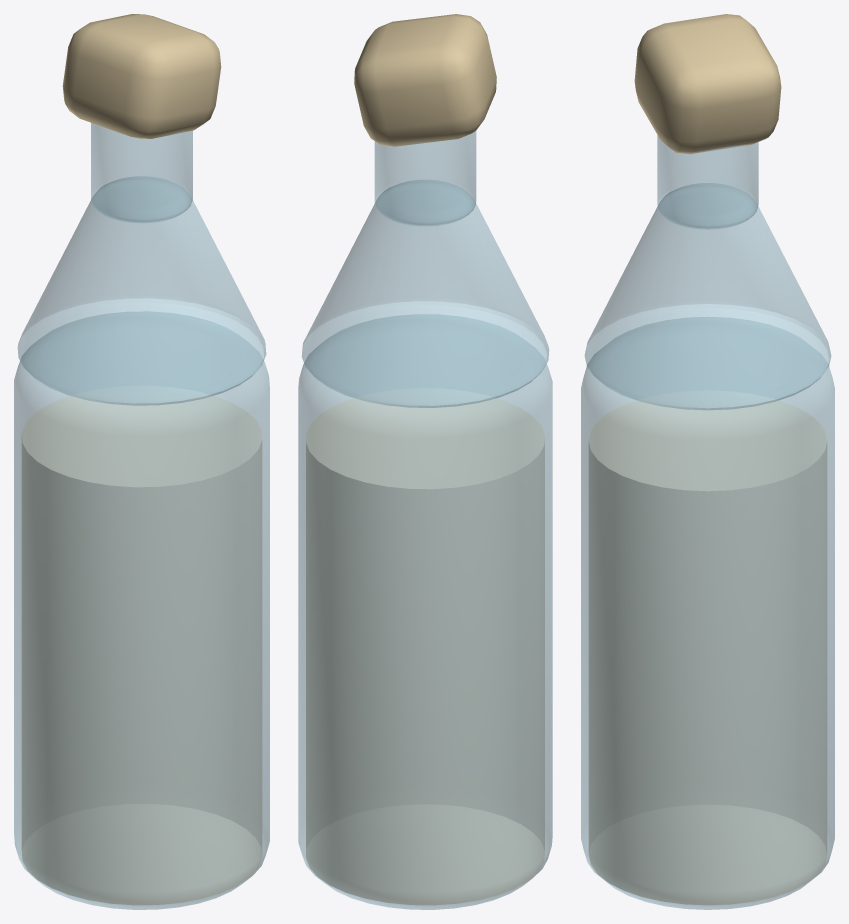
File: samogon.glb
3 views of the same model, side by side, from view 1: azimuth 30°, elevation 25°; view 2: azimuth 150°, elevation 25°; view 3: azimuth 270°, elevation 25° (orthographic).
Parts seen in each view (by area): view 1: samogon; view 2: samogon; view 3: samogon.
Part boxes in pixels (<box>): samogon: <box>14,14,269,909</box>; samogon: <box>298,14,552,909</box>; samogon: <box>581,14,834,909</box>.
Bounding box in the file's own units: 0.1 × 0.3623 × 0.1.
